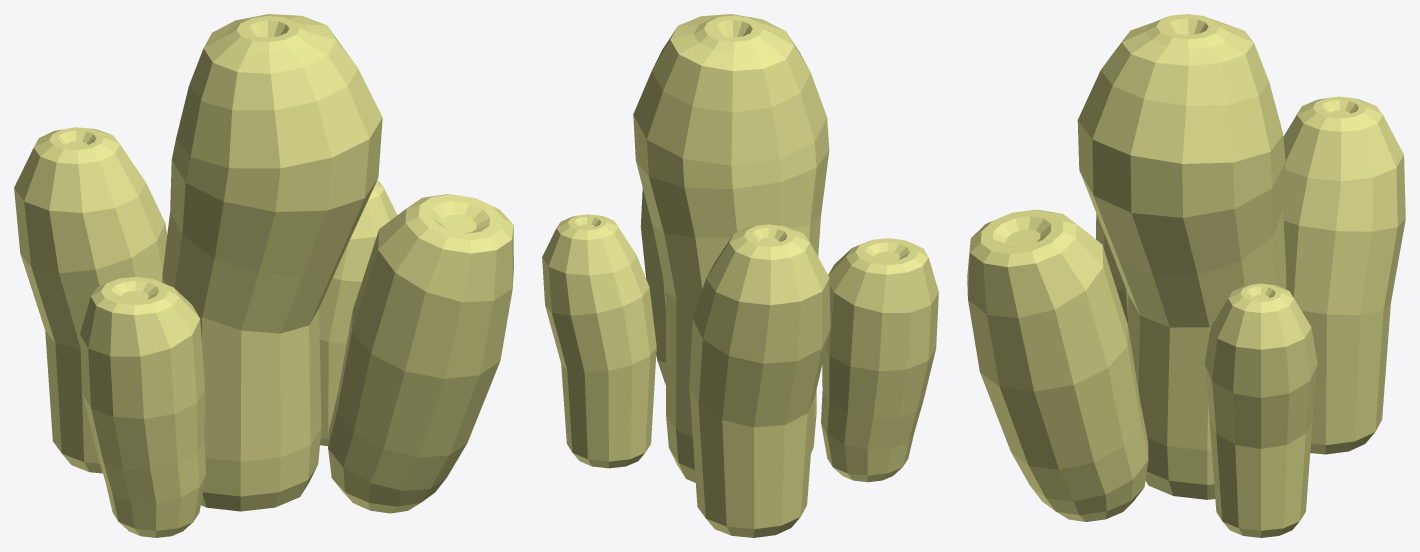
File: Coral.fbx
3 renders of one model, left to right at view 1: azimuth 30°, elevation 25°; view 2: azimuth 150°, elevation 25°; view 3: azimuth 270°, elevation 25°, orthographic. The views are drawn at different scales.
Visible parts, largest first — view 1: Cylinder, Cylinder.002, Cylinder.001, Cylinder.004, Cylinder.003; view 2: Cylinder, Cylinder.004, Cylinder.001, Cylinder.003, Cylinder.002; view 3: Cylinder, Cylinder.002, Cylinder.004, Cylinder.003, Cylinder.001.
Boxes of the visible parts, box(x1,y1,x2,y2) form: Cylinder: box(162, 14, 382, 511); Cylinder.002: box(328, 194, 513, 513); Cylinder.001: box(80, 277, 206, 537); Cylinder.004: box(14, 127, 167, 473); Cylinder.003: box(319, 180, 397, 445); Cylinder: box(633, 14, 829, 482); Cylinder.004: box(689, 224, 830, 537); Cylinder.001: box(821, 238, 938, 482); Cylinder.003: box(542, 214, 656, 468); Cylinder.002: box(640, 188, 665, 384); Cylinder: box(1077, 14, 1286, 499); Cylinder.002: box(967, 209, 1148, 521); Cylinder.004: box(1283, 96, 1405, 454); Cylinder.003: box(1204, 283, 1317, 537); Cylinder.001: box(1096, 213, 1128, 324).
Size of the model in its own units: 268 by 327 by 287.
